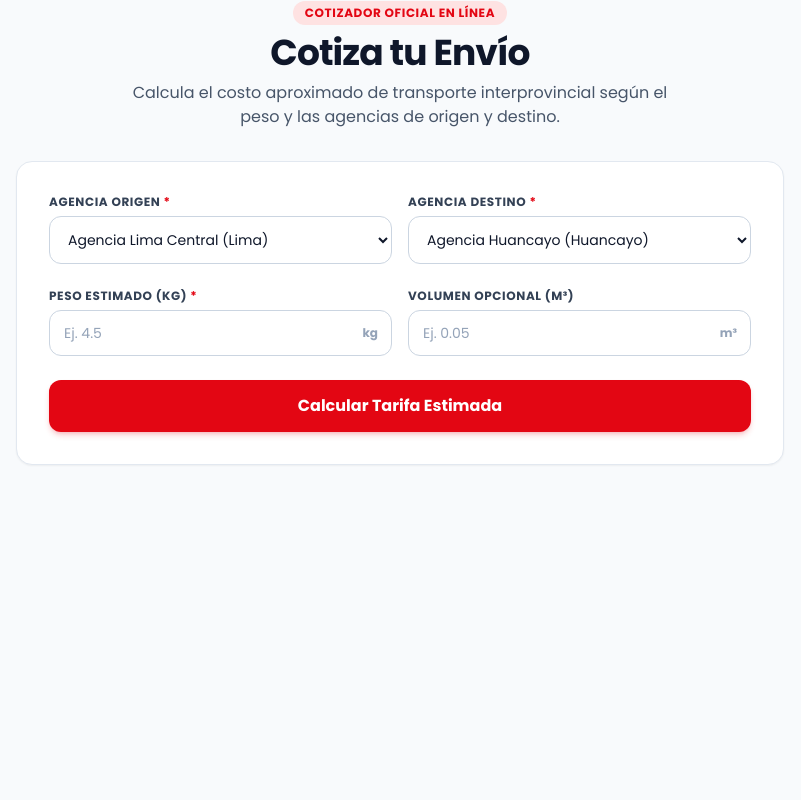
Test case: Página de Cotización (Cotiza.tsx) › calcula la tarifa estimada y muestra el aviso de tarifa referencial
The image size is (801, 800).
Check: the dropdown labelled "Agencia Origen *" is shown, box [49,216,392,264]
Type "4.5" into the number field labelled "Peso Estimado (kg) *".
click(220, 333); type("4.5")  # box [49,310,392,356]
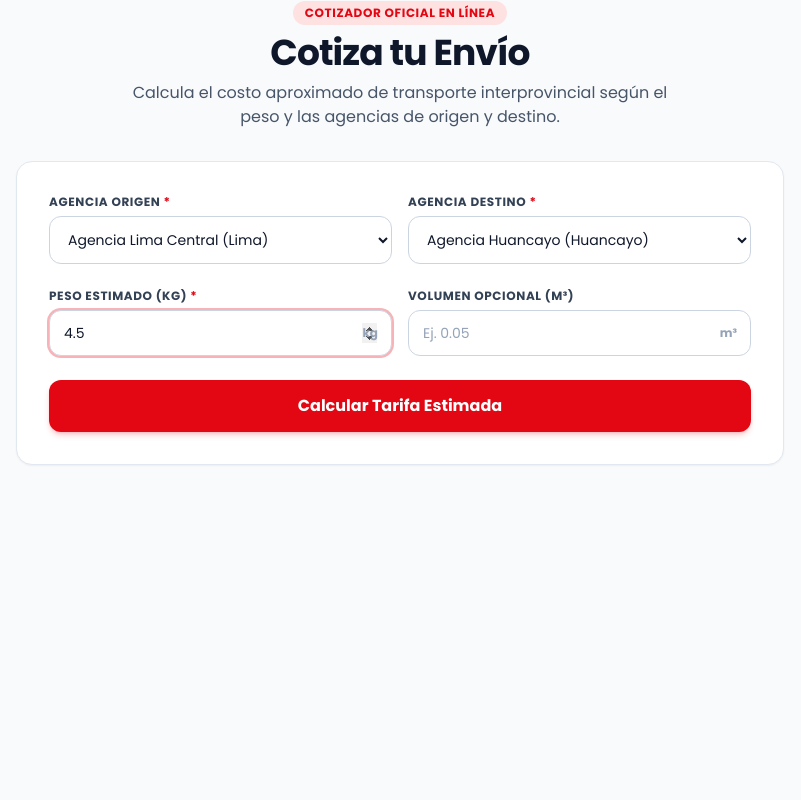
Click the button "Calcular Tarifa Estimada".
click(400, 406)  # box [49,380,751,432]
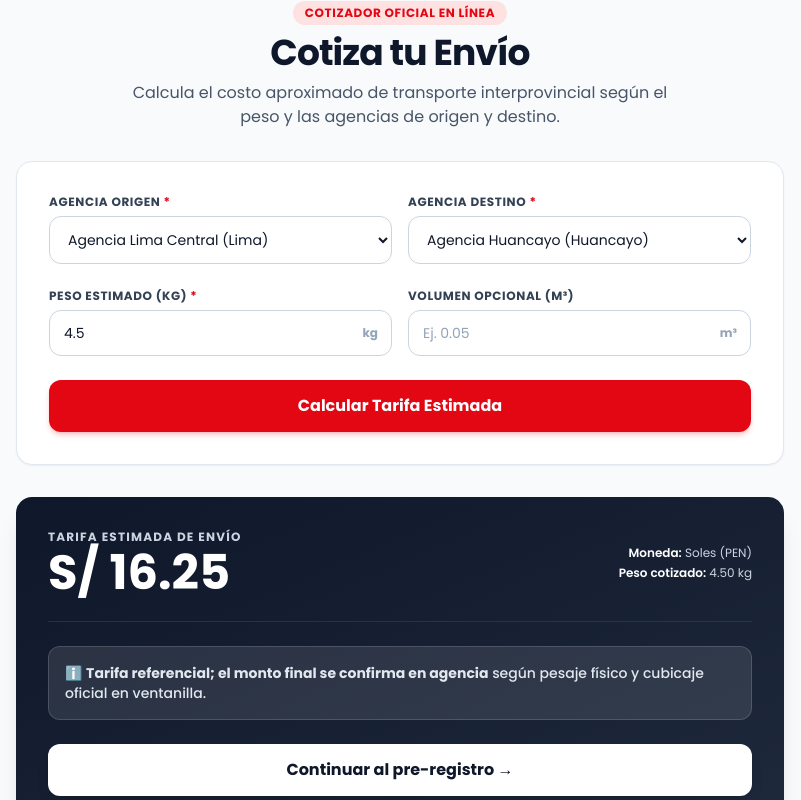
Check: the text "S/ 16.25" is shown, box [48,549,242,597]
Check: the text "Tarifa referencial; el monto final se confirma en agencia" is shown, box [86,663,488,683]
Check: the button "Continuar al pre-registro →" is shown, box [48,744,752,796]
